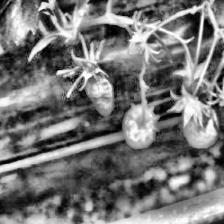Gray Mold: (58, 42, 115, 117)
